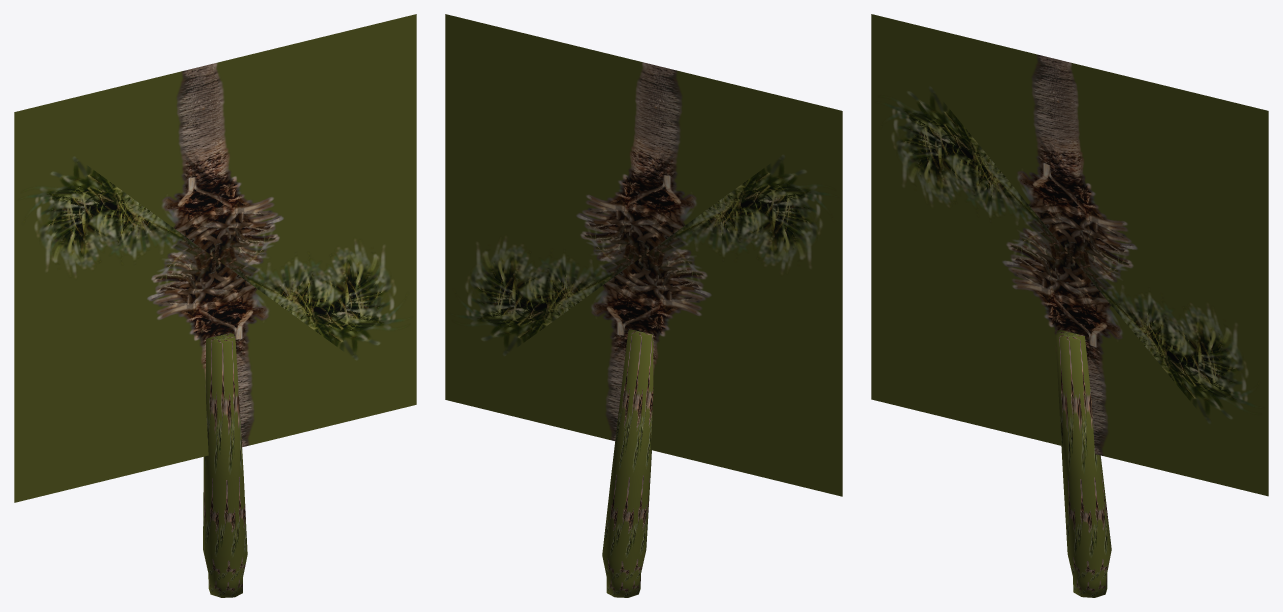
File: palm1.obj
3 renders of one model, left to right at view 1: azimuth 30°, elevation 25°; view 2: azimuth 150°, elevation 25°; view 3: azimuth 330°, elevation 25°, orthographic.
Parts seen in each view (by area): view 1: top, trunk; view 2: top, trunk; view 3: top, trunk.
Boxes of the visible parts, x1=… form: top: x1=14, y1=14, x2=416, y2=502; trunk: x1=203, y1=333, x2=247, y2=597; top: x1=445, y1=14, x2=842, y2=496; trunk: x1=602, y1=329, x2=653, y2=597; top: x1=871, y1=14, x2=1268, y2=496; trunk: x1=1055, y1=329, x2=1111, y2=597.
Size of the model in its own units: 47.24 by 60.07 by 5.41.
